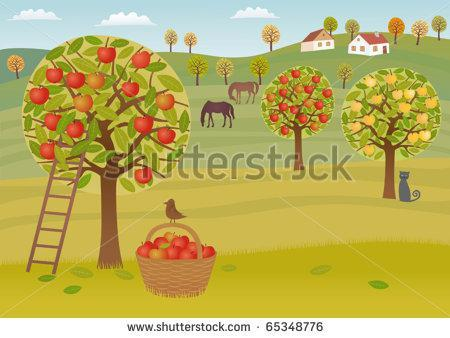bird: (163, 197, 187, 222)
cat: (395, 169, 422, 204)
horse: (197, 97, 237, 129), (225, 79, 261, 104)
